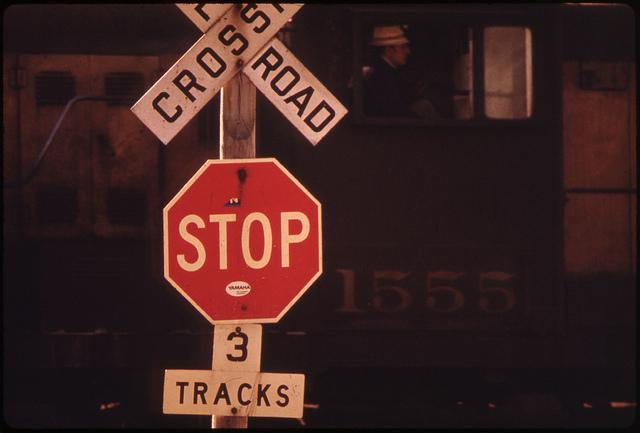Train: (253, 4, 639, 429)
